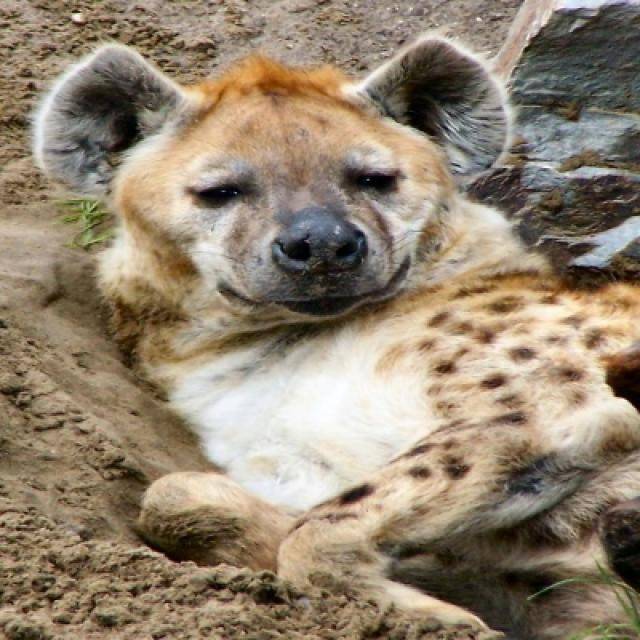hyena: (35, 34, 638, 638)
